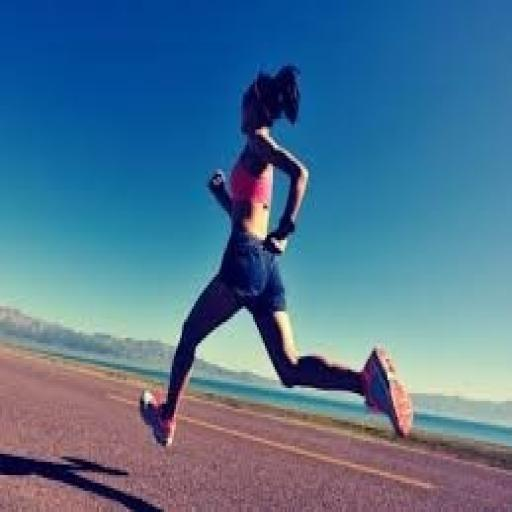running: (137, 58, 417, 451)
